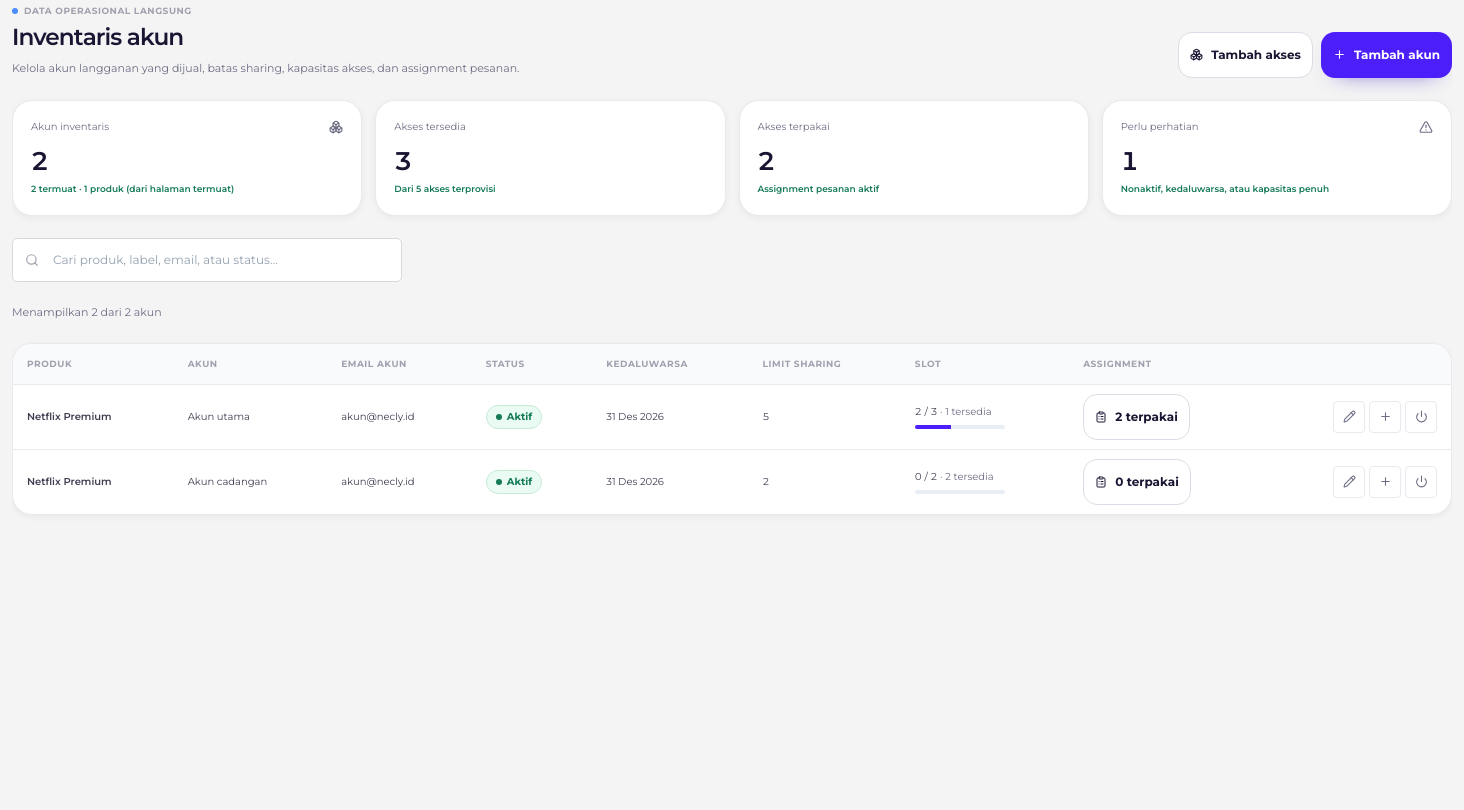
Scenario: Halaman Inventaris akun › menampilkan total assignment dan memuat slot berikutnya
This screenshot has width=1464, height=810.
Check: the text "Akun utama" is shown, box x1=174 y1=384 x2=327 y2=449
Click the button with aria-label "Lihat assignment Akun utama" at (1136, 417), box x1=1083 y1=394 x2=1190 y2=440
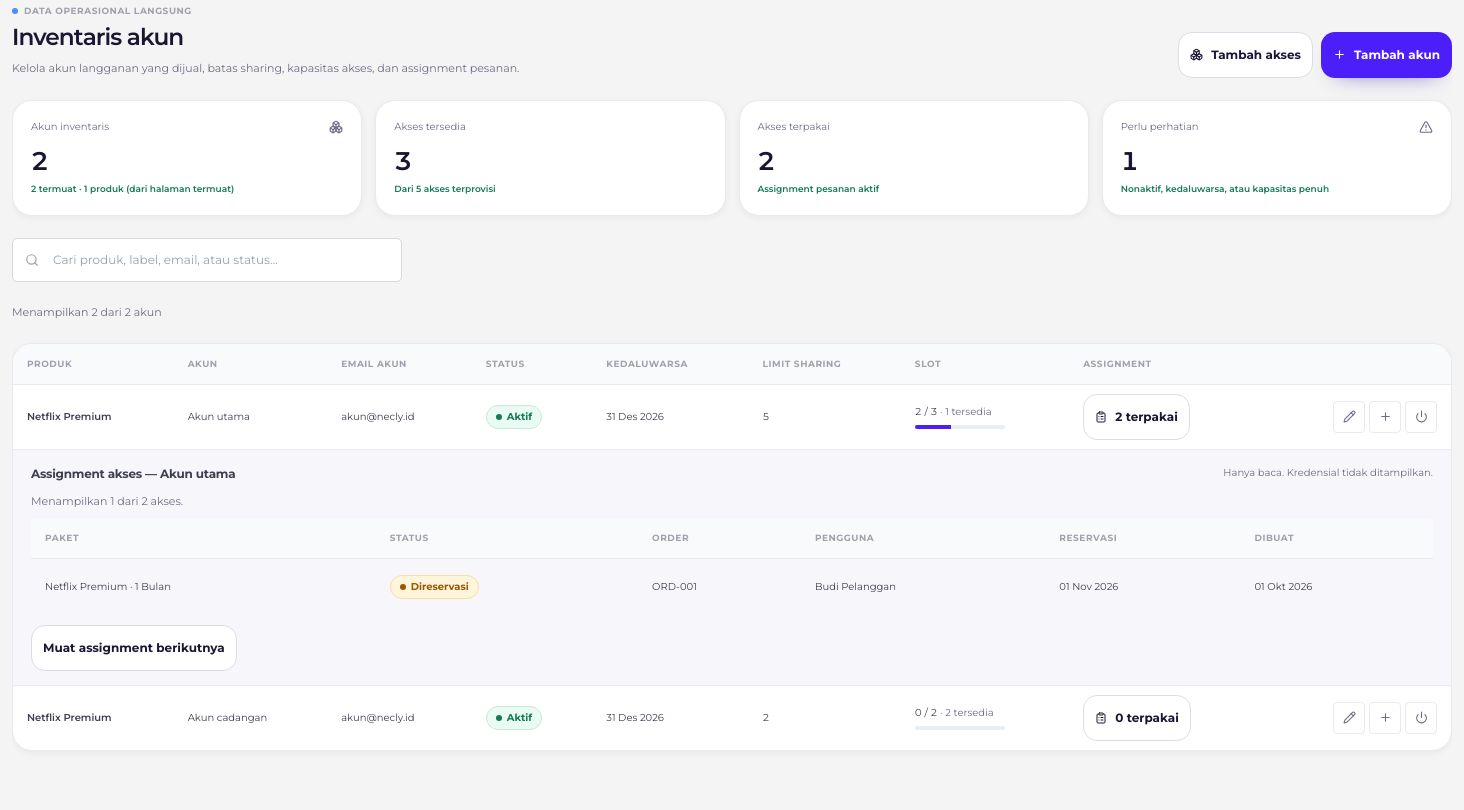
Check: the link "ORD-001" is shown, box x1=652 y1=580 x2=697 y2=593
Check: the text "Menampilkan 1 dari 2 akses." is shown, box x1=31 y1=494 x2=183 y2=508
Click the button "Muat assignment berikutnya" at (134, 648), box x1=31 y1=625 x2=237 y2=671
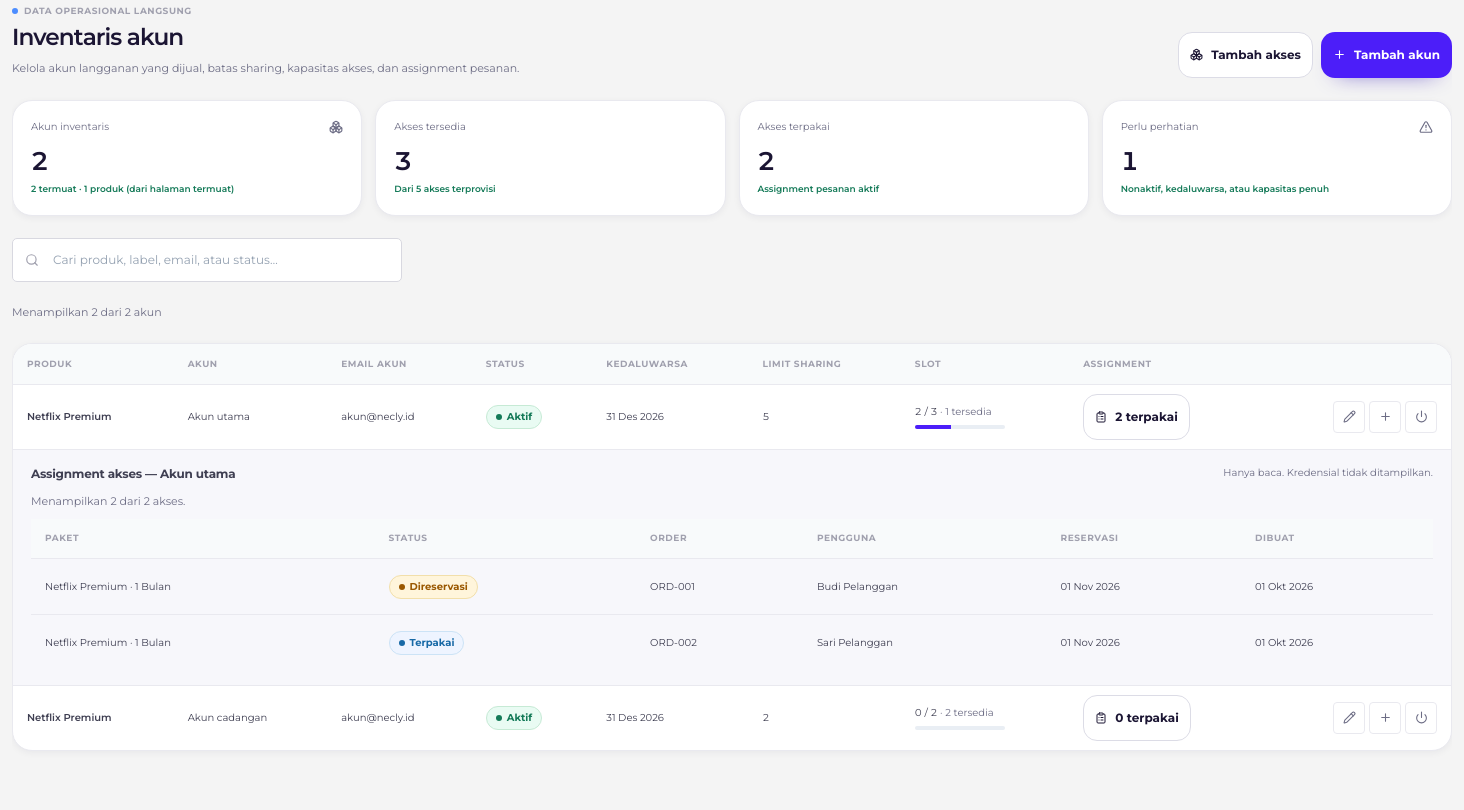
Check: the link "ORD-002" is shown, box x1=650 y1=636 x2=697 y2=649
Check: the text "Menampilkan 2 dari 2 akses." is shown, box x1=31 y1=494 x2=186 y2=508
